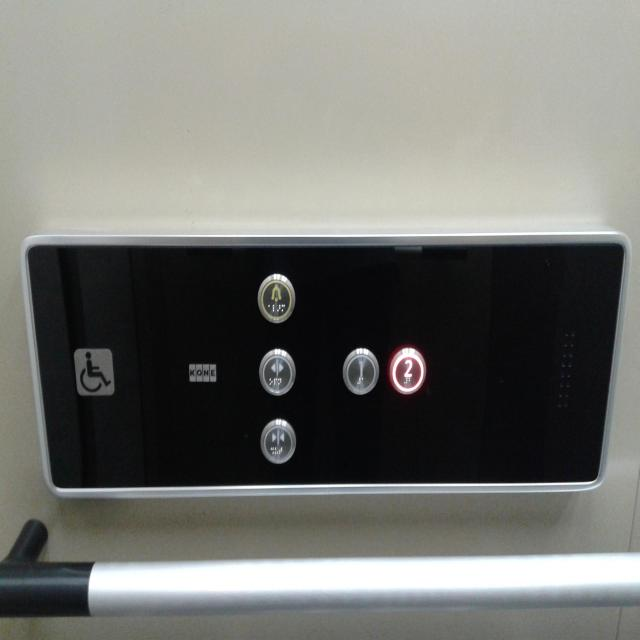1: (341, 345, 381, 396)
2: (387, 345, 427, 396)
CH: (73, 346, 116, 398)
alarm: (255, 271, 296, 324)
close: (259, 416, 297, 466)
open: (258, 346, 297, 397)
